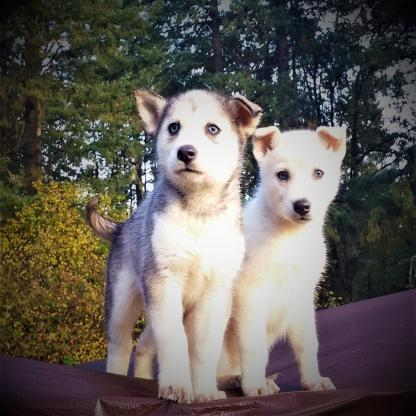husky: (79, 83, 259, 405), (209, 124, 352, 394)
